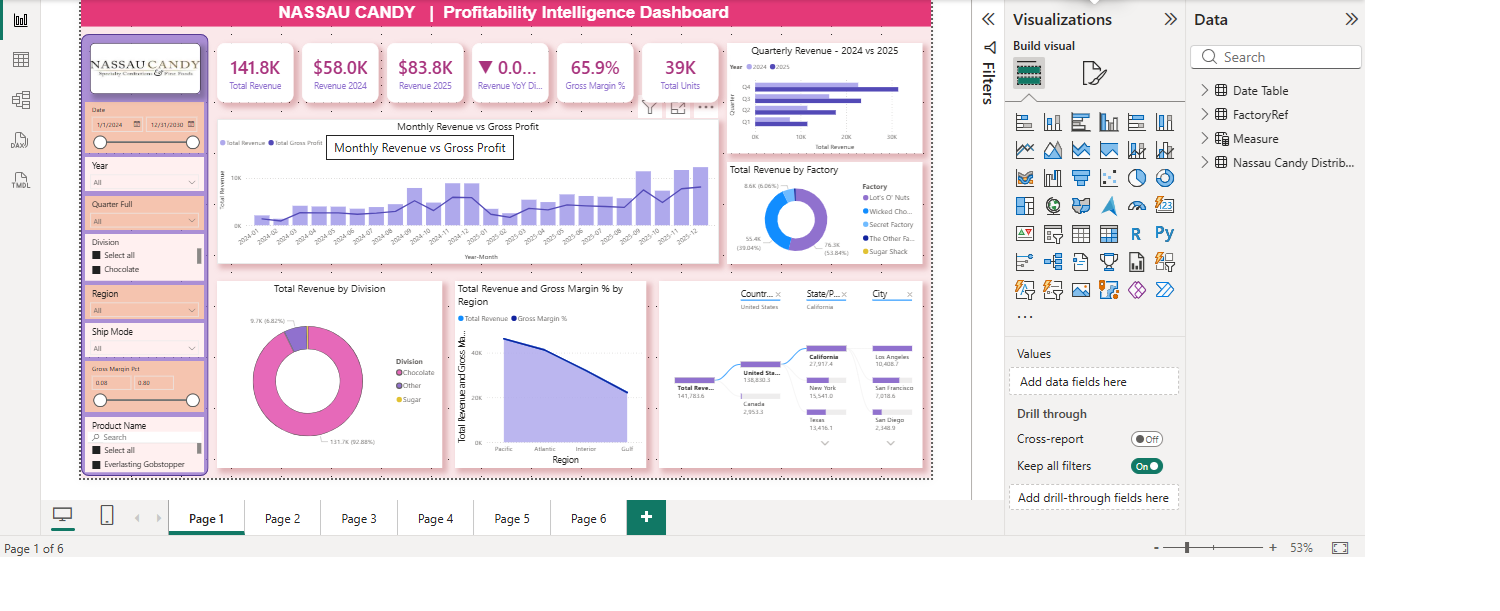

The dashboard page shown, as its layout file describes it:
{"tool":"powerbi","page":{"name":"Page 1","canvas":[1600,900],"ordinal":0},"visuals":[{"type":"textbox","box":[0,0,1600,50],"z":0},{"type":"lineStackedColumnComboChart","title":"Monthly Revenue vs Gross Profit","fields":{"Y":["Measure.Total Revenue"],"Y2":["Measure.Total Gross Profit"],"Category":["Date Table.Year-Month"]},"box":[256,224,944,272],"z":1000},{"type":"clusteredBarChart","title":"Quarterly Revenue - 2024 vs 2025","fields":{"Category":["Date Table.Quarter"],"Y":["Measure.Total Revenue"],"Series":["Date Table.Year"]},"box":[1216,80,368,208],"z":2000},{"type":"donutChart","fields":{"Category":["Nassau Candy Distributor.Division"],"Y":["Measure.Total Revenue"]},"box":[256,528,424,352],"z":3000},{"type":"stackedAreaChart","fields":{"Category":["Nassau Candy Distributor.Region"],"Y":["Measure.Total Revenue","Measure.Gross Margin %"]},"box":[704,528,360,352],"z":4000},{"type":"decompositionTreeVisual","fields":{"Analyze":["Measure.Total Revenue"],"ExplainBy":["Nassau Candy Distributor.Country/Region","Nassau Candy Distributor.State/Province","Nassau Candy Distributor.City"]},"box":[1088,528,496,352],"z":5000},{"type":"cardVisual","fields":{"Data":["Measure.Total Revenue"]},"box":[256,80,144,112],"z":6000},{"type":"donutChart","fields":{"Category":["FactoryRef.Factory"],"Y":["Measure.Total Revenue"]},"box":[1216,304,368,192],"z":7000},{"type":"cardVisual","fields":{"Data":["Measure.Revenue 2024"]},"box":[416,80,144,112],"z":8000},{"type":"cardVisual","fields":{"Data":["Measure.Revenue 2025"]},"box":[576,80,144,112],"z":9000},{"type":"cardVisual","fields":{"Data":["Measure.Revenue YoY Display"]},"box":[736,80,144,112],"z":10000},{"type":"cardVisual","fields":{"Data":["Measure.Gross Margin %"]},"box":[896,80,144,112],"z":11000},{"type":"cardVisual","fields":{"Data":["Measure.Total Units"]},"box":[1056,80,144,112],"z":12000},{"type":"shape","box":[0,64,240,832],"z":13000},{"type":"slicer","fields":{"Values":["Date Table.Date"]},"box":[8,192,224,96],"z":14000},{"type":"slicer","fields":{"Values":["Date Table.Year"]},"box":[8,296,224,64],"z":15000},{"type":"slicer","fields":{"Values":["Date Table.Quarter Full"]},"box":[8,368,224,64],"z":16000},{"type":"slicer","fields":{"Values":["Nassau Candy Distributor.Division"]},"box":[8,440,224,88],"z":17000},{"type":"slicer","fields":{"Values":["Nassau Candy Distributor.Region"]},"box":[8,536,224,64],"z":18000},{"type":"slicer","fields":{"Values":["Nassau Candy Distributor.Ship Mode"]},"box":[8,608,224,64],"z":19000},{"type":"slicer","fields":{"Values":["Nassau Candy Distributor.Product Name"]},"box":[8,784,224,104],"z":20000},{"type":"slicer","fields":{"Values":["Nassau Candy Distributor.Gross Margin Pct"]},"box":[8,680,224,96],"z":21000},{"type":"image","box":[16,80,208,96],"z":22000}]}

Visuals, with their boxes on the page's 1600x900 design canvas (x1, y1, x2, y2). These are canvas units, not pixel positions in the 1500x611 screenshot, which may show the page scaled, cropped or inside an application window:
textbox: (0, 0, 1600, 50)
"Monthly Revenue vs Gross Profit" lineStackedColumnComboChart: (256, 224, 1200, 496)
"Quarterly Revenue - 2024 vs 2025" clusteredBarChart: (1216, 80, 1584, 288)
donutChart - Nassau Candy Distributor.Division x Measure.Total Revenue: (256, 528, 680, 880)
stackedAreaChart - Nassau Candy Distributor.Region x Measure.Total Revenue: (704, 528, 1064, 880)
decompositionTreeVisual - Measure.Total Revenue x Nassau Candy Distributor.Country/Region: (1088, 528, 1584, 880)
cardVisual - Measure.Total Revenue: (256, 80, 400, 192)
donutChart - FactoryRef.Factory x Measure.Total Revenue: (1216, 304, 1584, 496)
cardVisual - Measure.Revenue 2024: (416, 80, 560, 192)
cardVisual - Measure.Revenue 2025: (576, 80, 720, 192)
cardVisual - Measure.Revenue YoY Display: (736, 80, 880, 192)
cardVisual - Measure.Gross Margin %: (896, 80, 1040, 192)
cardVisual - Measure.Total Units: (1056, 80, 1200, 192)
shape: (0, 64, 240, 896)
slicer - Date Table.Date: (8, 192, 232, 288)
slicer - Date Table.Year: (8, 296, 232, 360)
slicer - Date Table.Quarter Full: (8, 368, 232, 432)
slicer - Nassau Candy Distributor.Division: (8, 440, 232, 528)
slicer - Nassau Candy Distributor.Region: (8, 536, 232, 600)
slicer - Nassau Candy Distributor.Ship Mode: (8, 608, 232, 672)
slicer - Nassau Candy Distributor.Product Name: (8, 784, 232, 888)
slicer - Nassau Candy Distributor.Gross Margin Pct: (8, 680, 232, 776)
image: (16, 80, 224, 176)
